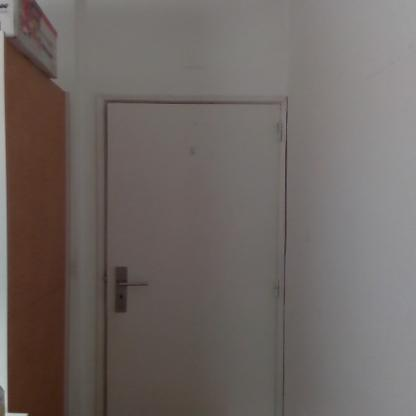door: (106, 102, 276, 416)
hinged: (272, 275, 282, 300), (274, 119, 284, 143)
lever: (113, 277, 152, 288)
